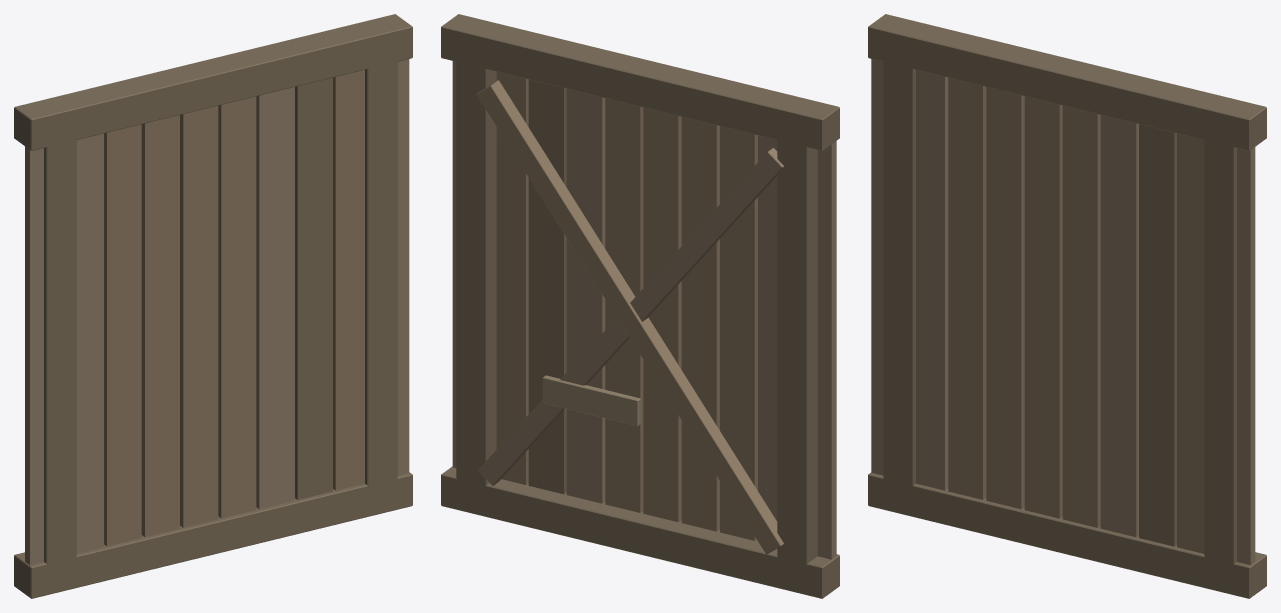
File: env_wall_plank_crossbraced_b.glb
The picture shows the model from 3 angles, left to right: view 1: azimuth 30°, elevation 25°; view 2: azimuth 150°, elevation 25°; view 3: azimuth 330°, elevation 25°; orthographic projection.
Parts seen in each view (by area): view 1: material_0, material_2, material_1; view 2: material_2, material_0, material_1, material_3; view 3: material_2, material_0, material_1.
Part boxes in pixels (left/top/right/bottom): material_0: left=104, top=70, right=364, bottom=546; material_2: left=14, top=14, right=412, bottom=598; material_1: left=25, top=59, right=409, bottom=565; material_2: left=441, top=14, right=839, bottom=598; material_0: left=476, top=72, right=783, bottom=554; material_1: left=452, top=61, right=836, bottom=559; material_3: left=542, top=375, right=640, bottom=426; material_2: left=868, top=14, right=1266, bottom=598; material_0: left=948, top=77, right=1204, bottom=553; material_1: left=871, top=59, right=1255, bottom=565.
Bounding box in the file's own units: 2 × 2.4 × 0.19.
